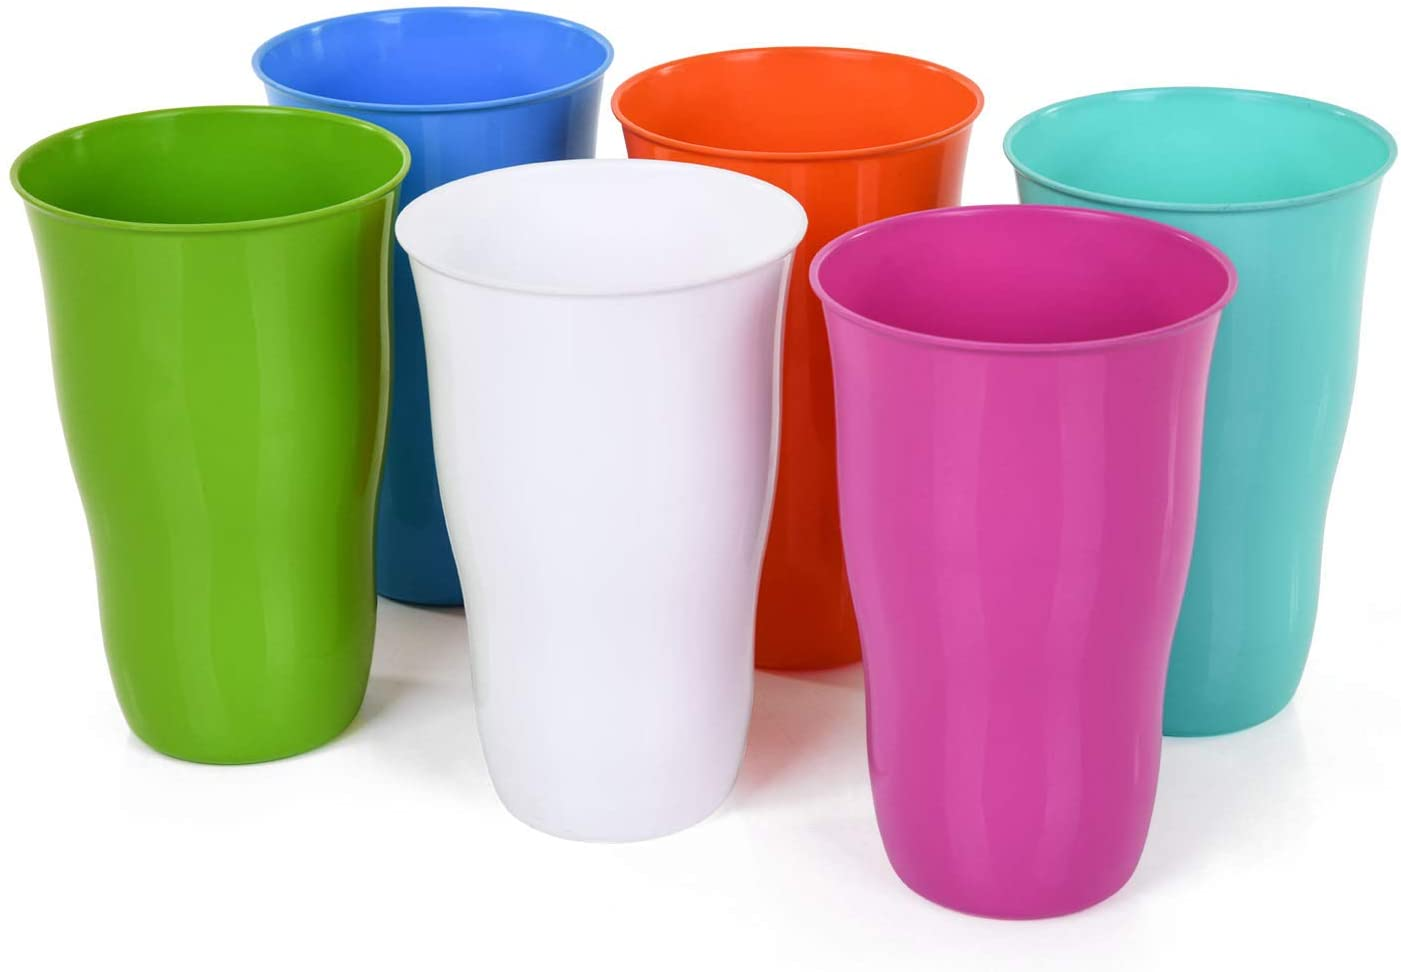plastic: (10, 5, 1400, 928)
